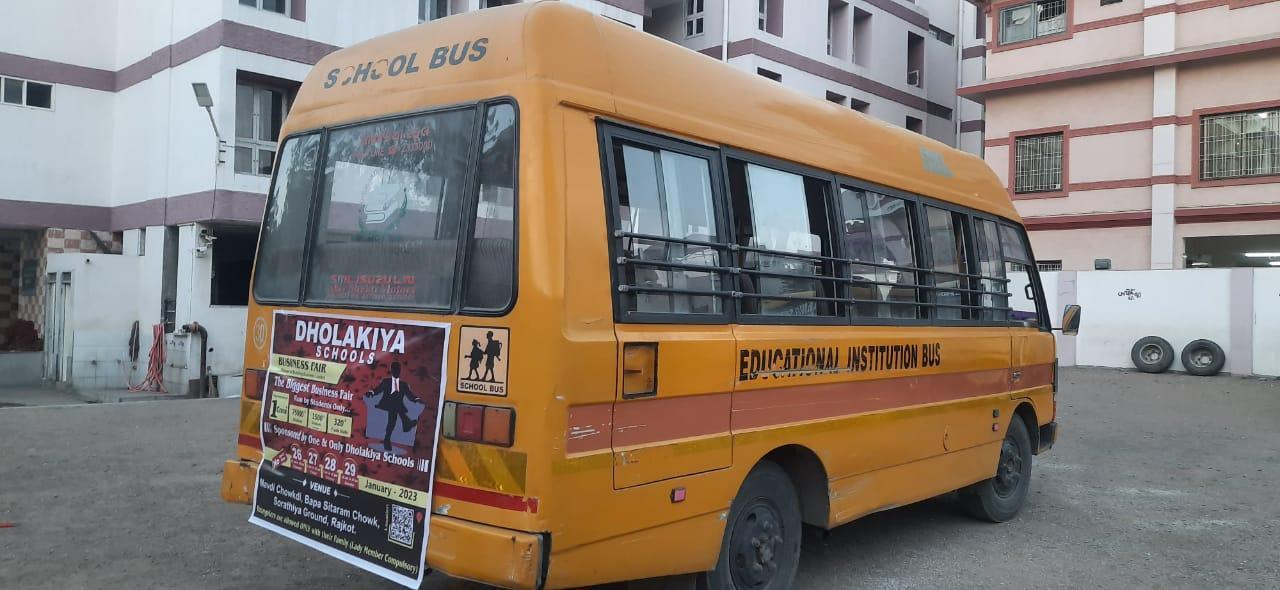Bus: (218, 0, 1071, 585)
